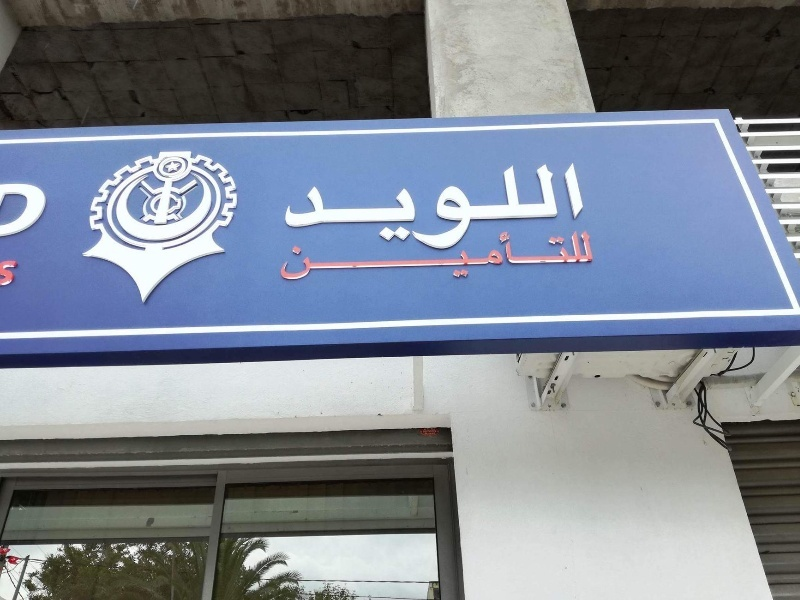text: (289, 156, 304, 259), (305, 156, 320, 259), (321, 156, 336, 259), (337, 156, 352, 259), (353, 156, 368, 259), (369, 156, 384, 259), (385, 156, 400, 259), (401, 156, 416, 259), (417, 156, 432, 259), (433, 156, 448, 259), (449, 156, 464, 259), (465, 156, 480, 259), (481, 156, 496, 259), (497, 156, 512, 259), (513, 156, 528, 259), (529, 156, 544, 259), (545, 156, 560, 259), (561, 156, 576, 259), (577, 156, 592, 259), (593, 156, 608, 259), (609, 156, 624, 259), (625, 156, 638, 259), (277, 156, 288, 259), (17, 179, 32, 244), (33, 179, 48, 244), (2, 179, 16, 244), (289, 229, 304, 281), (305, 229, 320, 281), (321, 229, 336, 281), (337, 229, 352, 281), (353, 229, 368, 281), (369, 229, 384, 281), (385, 229, 400, 281), (401, 229, 416, 281), (417, 229, 432, 281), (433, 229, 448, 281), (449, 229, 464, 281), (465, 229, 480, 281), (481, 229, 496, 281), (497, 229, 512, 281), (513, 229, 528, 281), (529, 229, 544, 281), (545, 229, 560, 281), (561, 229, 576, 281), (577, 229, 592, 281), (1, 258, 16, 289), (280, 229, 288, 281), (17, 258, 23, 289), (593, 229, 596, 281), (421, 427, 432, 435), (49, 179, 50, 244), (433, 427, 440, 435)
